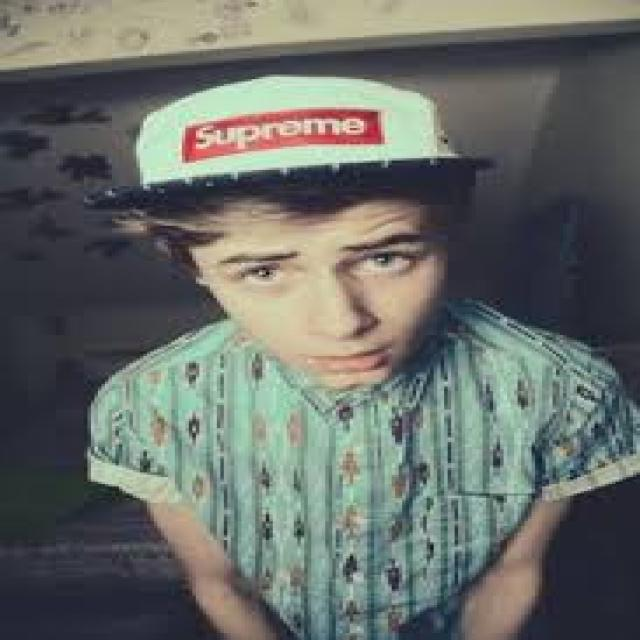3_gorra: (83, 70, 500, 211)
